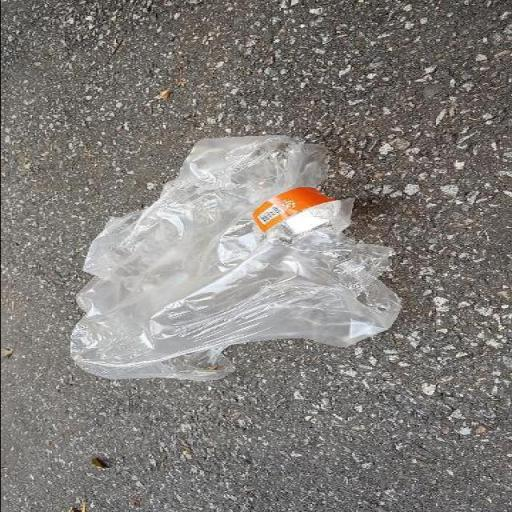plastic-bag: (66, 133, 402, 382)
